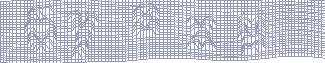6: (23, 4, 57, 54)
s: (186, 16, 218, 52), (130, 3, 162, 38)
y: (66, 10, 99, 59), (236, 11, 267, 54)
